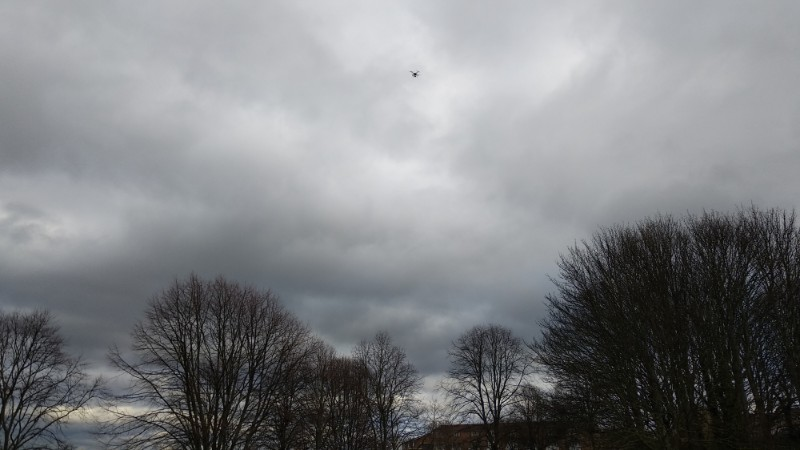drone: (410, 69, 421, 80)
